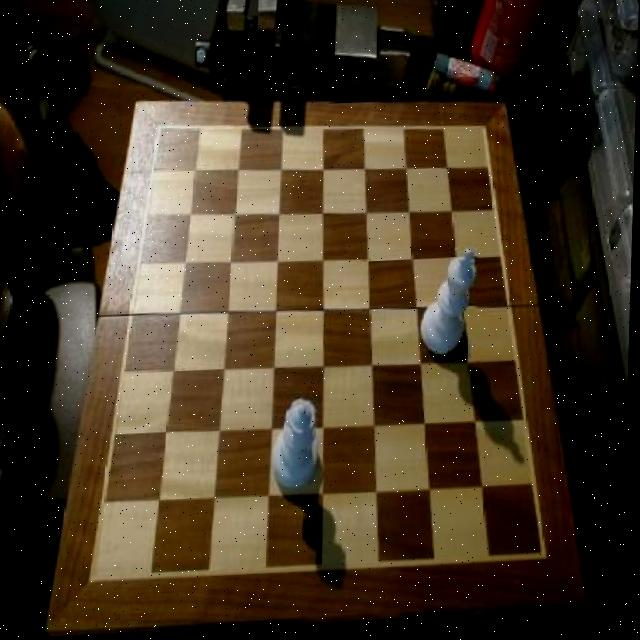white-bishop: (420, 252, 480, 367)
white-pawn: (272, 399, 323, 497)
